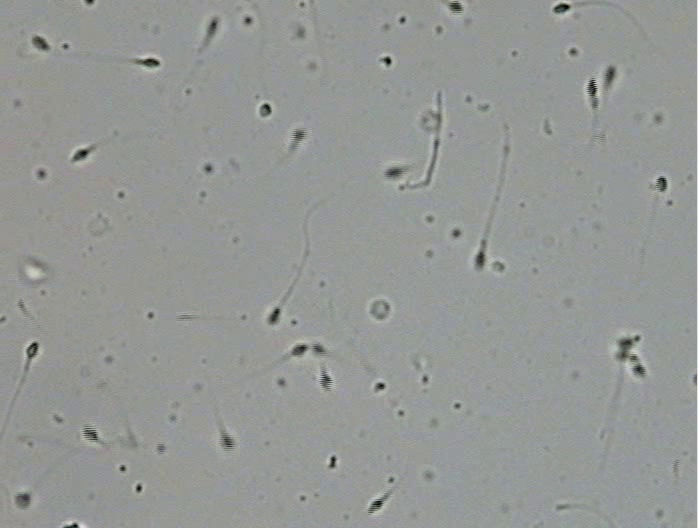Impurity: (369, 299, 390, 321)
S: (630, 353, 647, 377), (616, 338, 633, 360), (31, 36, 50, 52), (319, 371, 333, 392), (82, 425, 99, 442), (367, 498, 384, 514), (291, 128, 306, 146), (220, 433, 235, 451), (71, 149, 89, 162), (15, 493, 30, 508), (138, 58, 160, 68), (586, 78, 597, 98), (656, 175, 668, 193), (604, 66, 615, 85), (26, 342, 39, 358), (291, 344, 308, 356), (385, 167, 403, 178), (449, 1, 464, 14), (207, 19, 218, 36), (475, 251, 486, 268), (259, 103, 272, 117), (553, 3, 570, 13), (311, 344, 326, 355), (269, 309, 279, 323), (84, 1, 95, 6)
